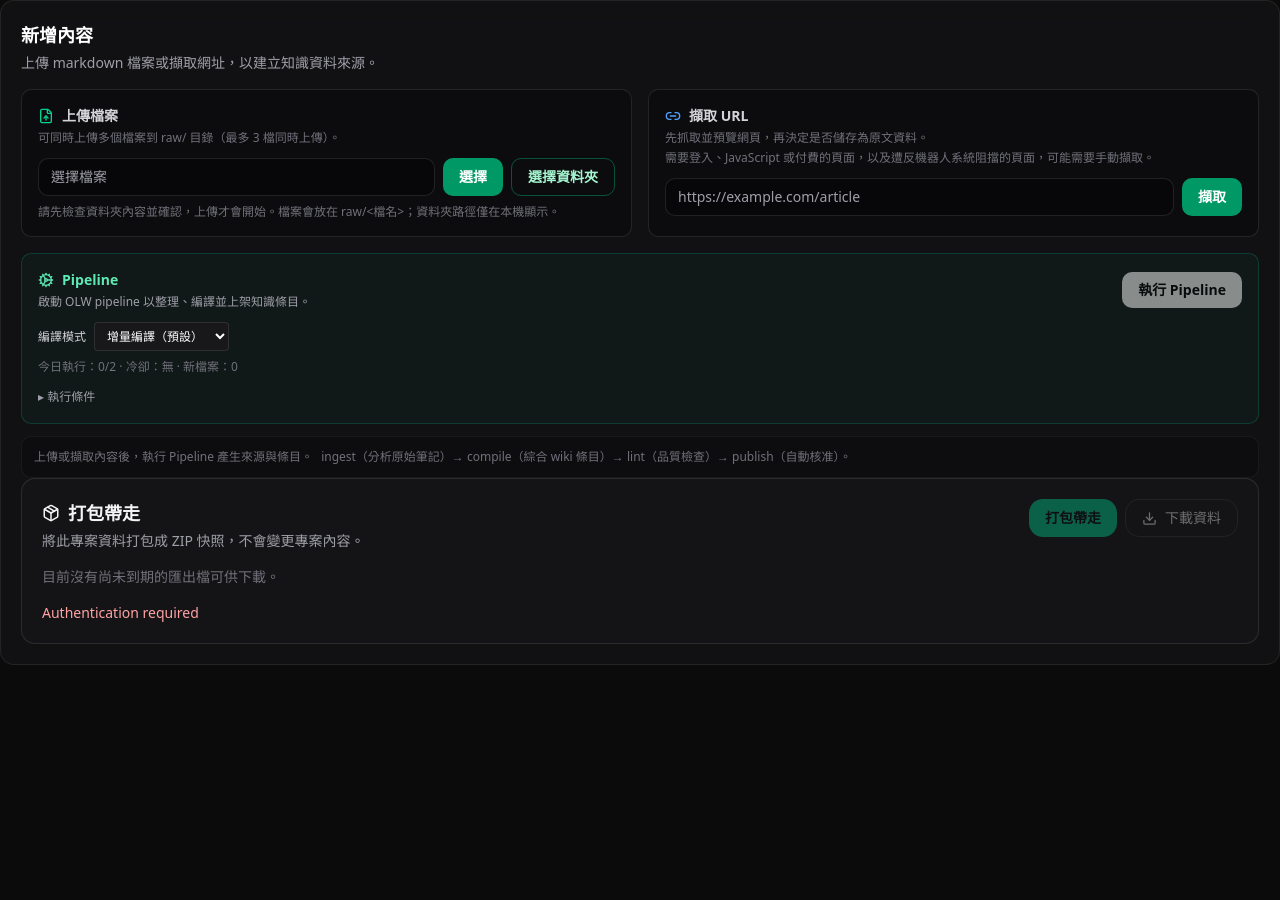
Test: generic annotation refresh started during pending full POST cannot replace the accepted execution
Select "全面重編譯" in the dropdown with test id "pipeline-compile-mode" at (162, 336), box [94, 322, 229, 351]
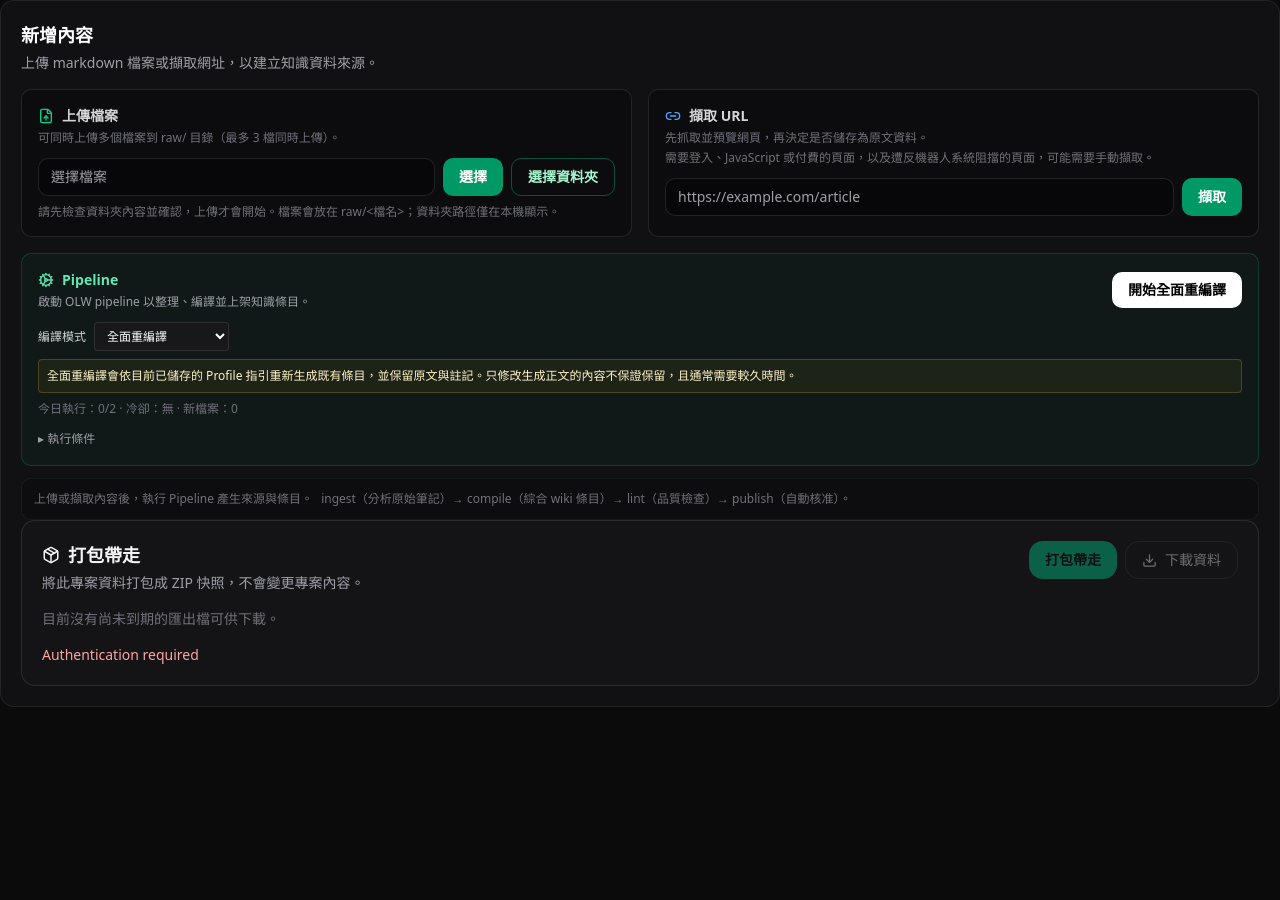
Expected: the button "開始全面重編譯" is enabled
Click the button "開始全面重編譯" at (1177, 290), box [1112, 272, 1242, 308]
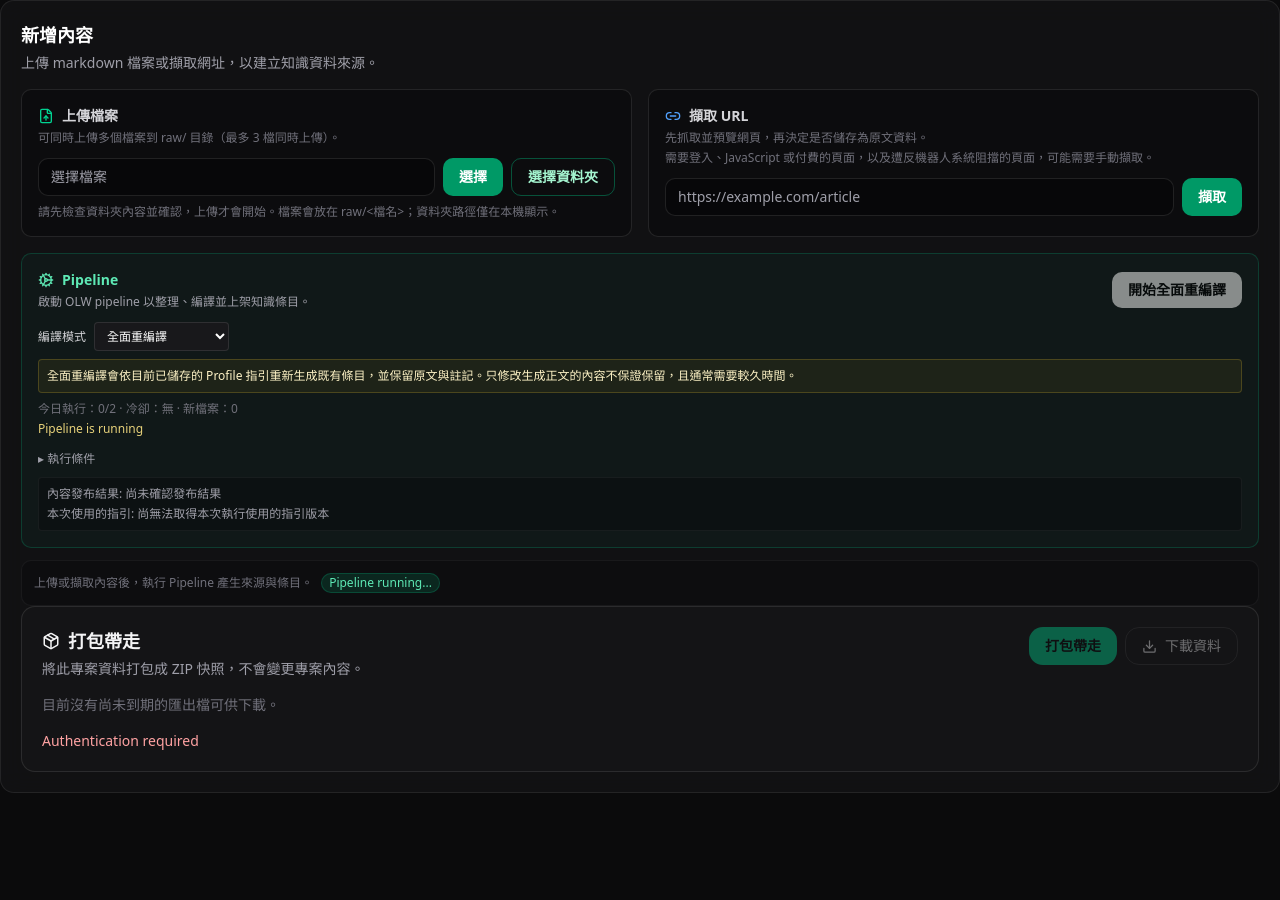
Expected: the text "Pipeline running..." is shown, [321, 573, 440, 593]
Select "增量編譯（預設）" in the dropdown with test id "pipeline-compile-mode" at (162, 336), box [94, 322, 229, 351]
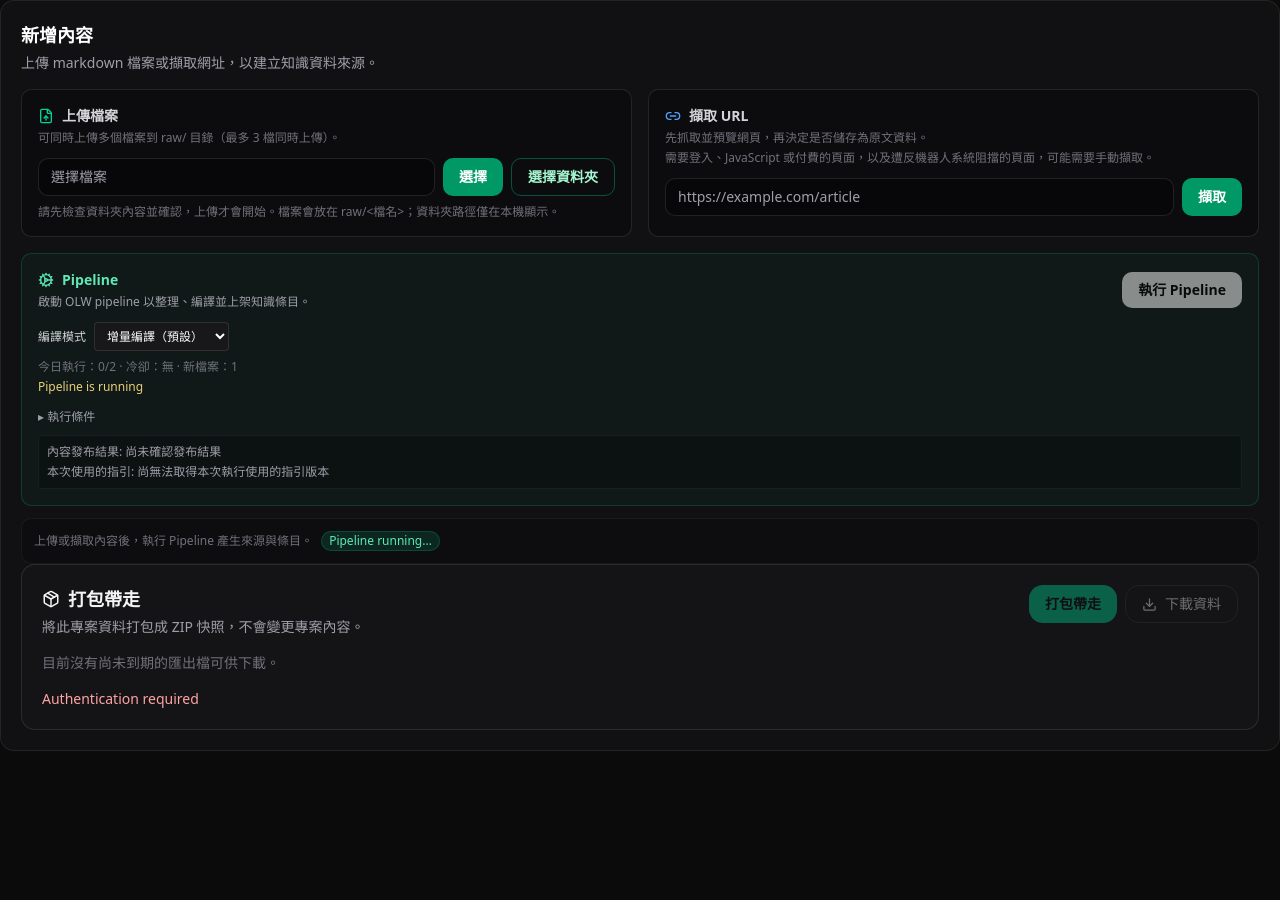
Expected: the text "Pipeline running..." is shown, [321, 531, 440, 551]
Expected: the text with test id "pipeline-quota-line" shows "新檔案：1", [38, 358, 238, 375]
